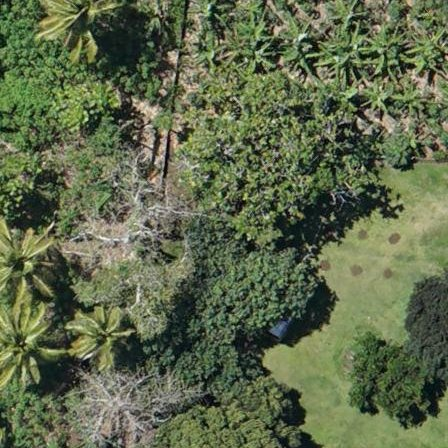palm_tree: (1, 288, 51, 380), (30, 1, 111, 50), (68, 302, 127, 365), (1, 222, 49, 297)
